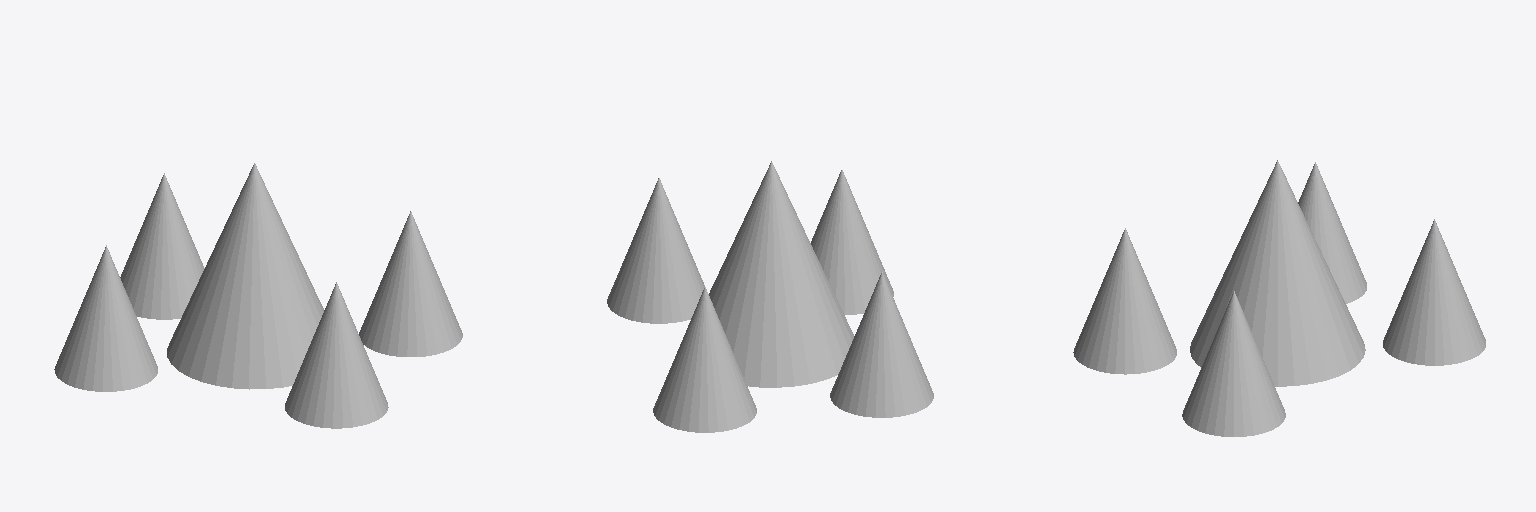
File: Cerkov2.obj
The picture shows the model from 3 angles: view 1: azimuth 30°, elevation 25°; view 2: azimuth 150°, elevation 25°; view 3: azimuth 270°, elevation 25°; orthographic projection.
Parts seen in each view (by area): view 1: Cone.001; view 2: Cone.001; view 3: Cone.001.
Boxes of the visible parts, <box> form: Cone.001: <box>54,163,462,428</box>; Cone.001: <box>607,161,933,432</box>; Cone.001: <box>1073,160,1485,436</box>.
Bounding box in the file's own units: 52.08 × 26.69 × 52.64.